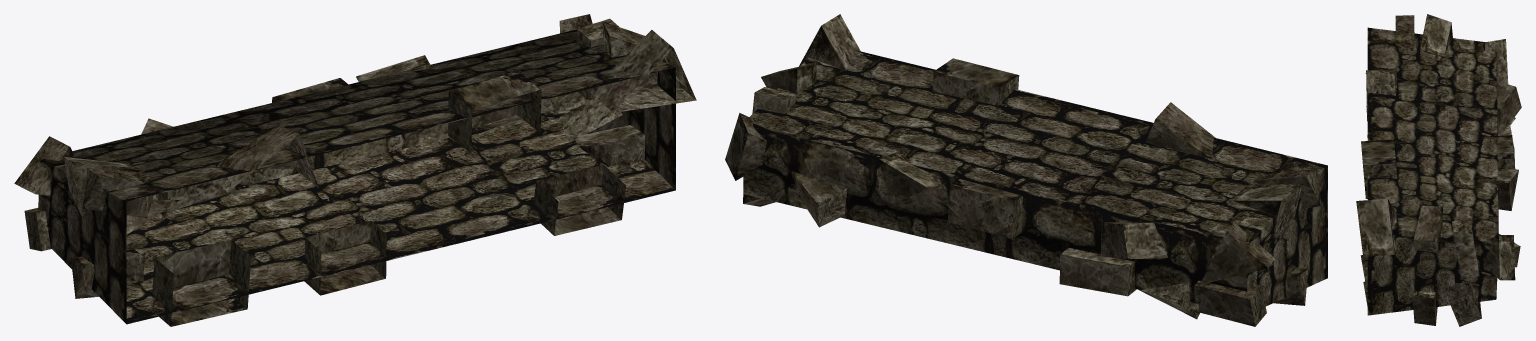
The model's file is MEP_StoneWall_01__LOD_01.fbx.
The picture shows the model from 3 angles, left to right: view 1: azimuth 30°, elevation 25°; view 2: azimuth 150°, elevation 25°; view 3: azimuth 270°, elevation 25°; orthographic projection. The views are drawn at different scales.
Parts seen in each view (by area): view 1: MEP_StoneWall_01_LOD_01; view 2: MEP_StoneWall_01_LOD_01; view 3: MEP_StoneWall_01_LOD_01.
Part boxes in pixels (box(x1,y1,x2,y2)): MEP_StoneWall_01_LOD_01: box(14, 14, 696, 326); MEP_StoneWall_01_LOD_01: box(725, 14, 1327, 326); MEP_StoneWall_01_LOD_01: box(1356, 14, 1521, 326).
Size of the model in its own units: 5.34 by 1.51 by 1.75.
